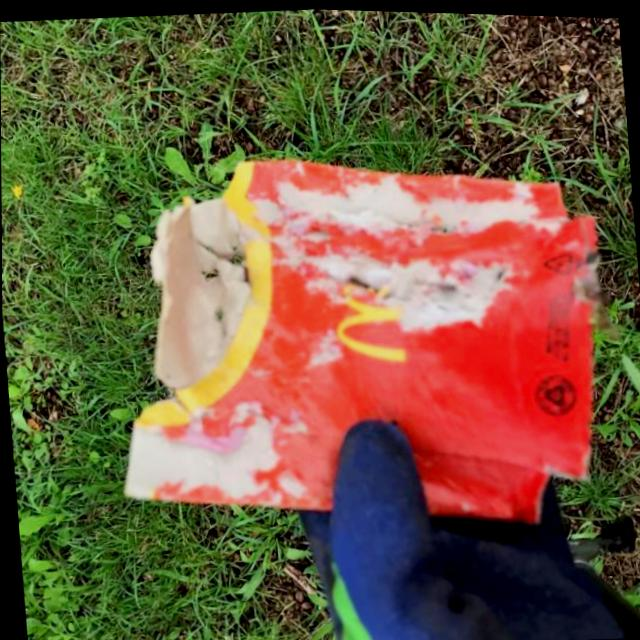Paper: (93, 124, 622, 552)
